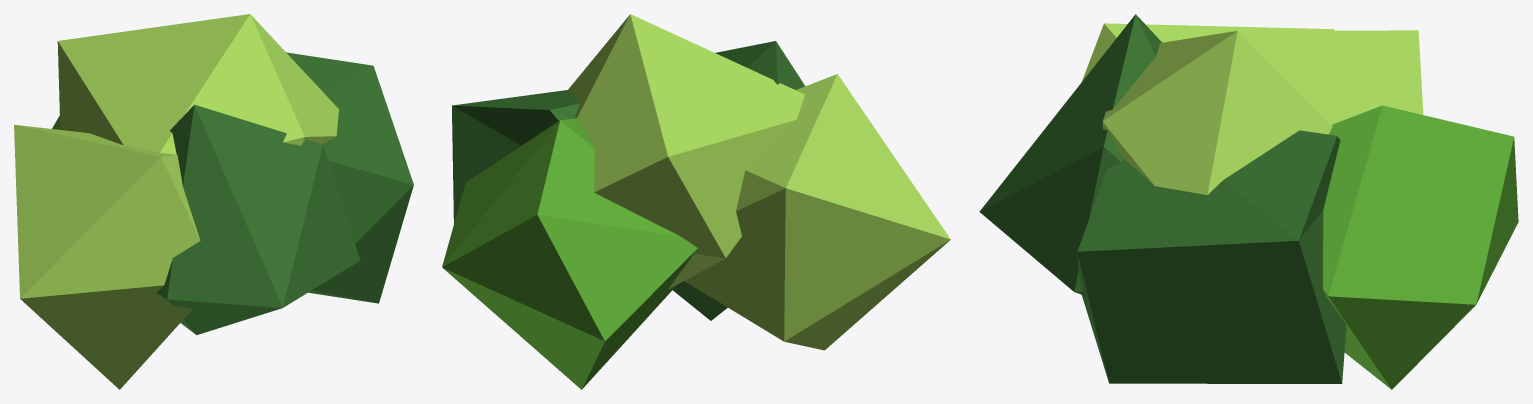
File: bush_2_lod2.glb
3 renders of one model, left to right at view 1: azimuth 30°, elevation 25°; view 2: azimuth 150°, elevation 25°; view 3: azimuth 270°, elevation 25°, orthographic. The views are drawn at different scales.
Parts seen in each view (by area): view 1: bush_2_lod2; view 2: bush_2_lod2; view 3: bush_2_lod2.
Part boxes in pixels (<box>): bush_2_lod2: <box>14,14,413,389</box>; bush_2_lod2: <box>442,14,950,389</box>; bush_2_lod2: <box>979,14,1518,389</box>.
Size of the model in its own units: 2 by 1.44 by 1.9.
